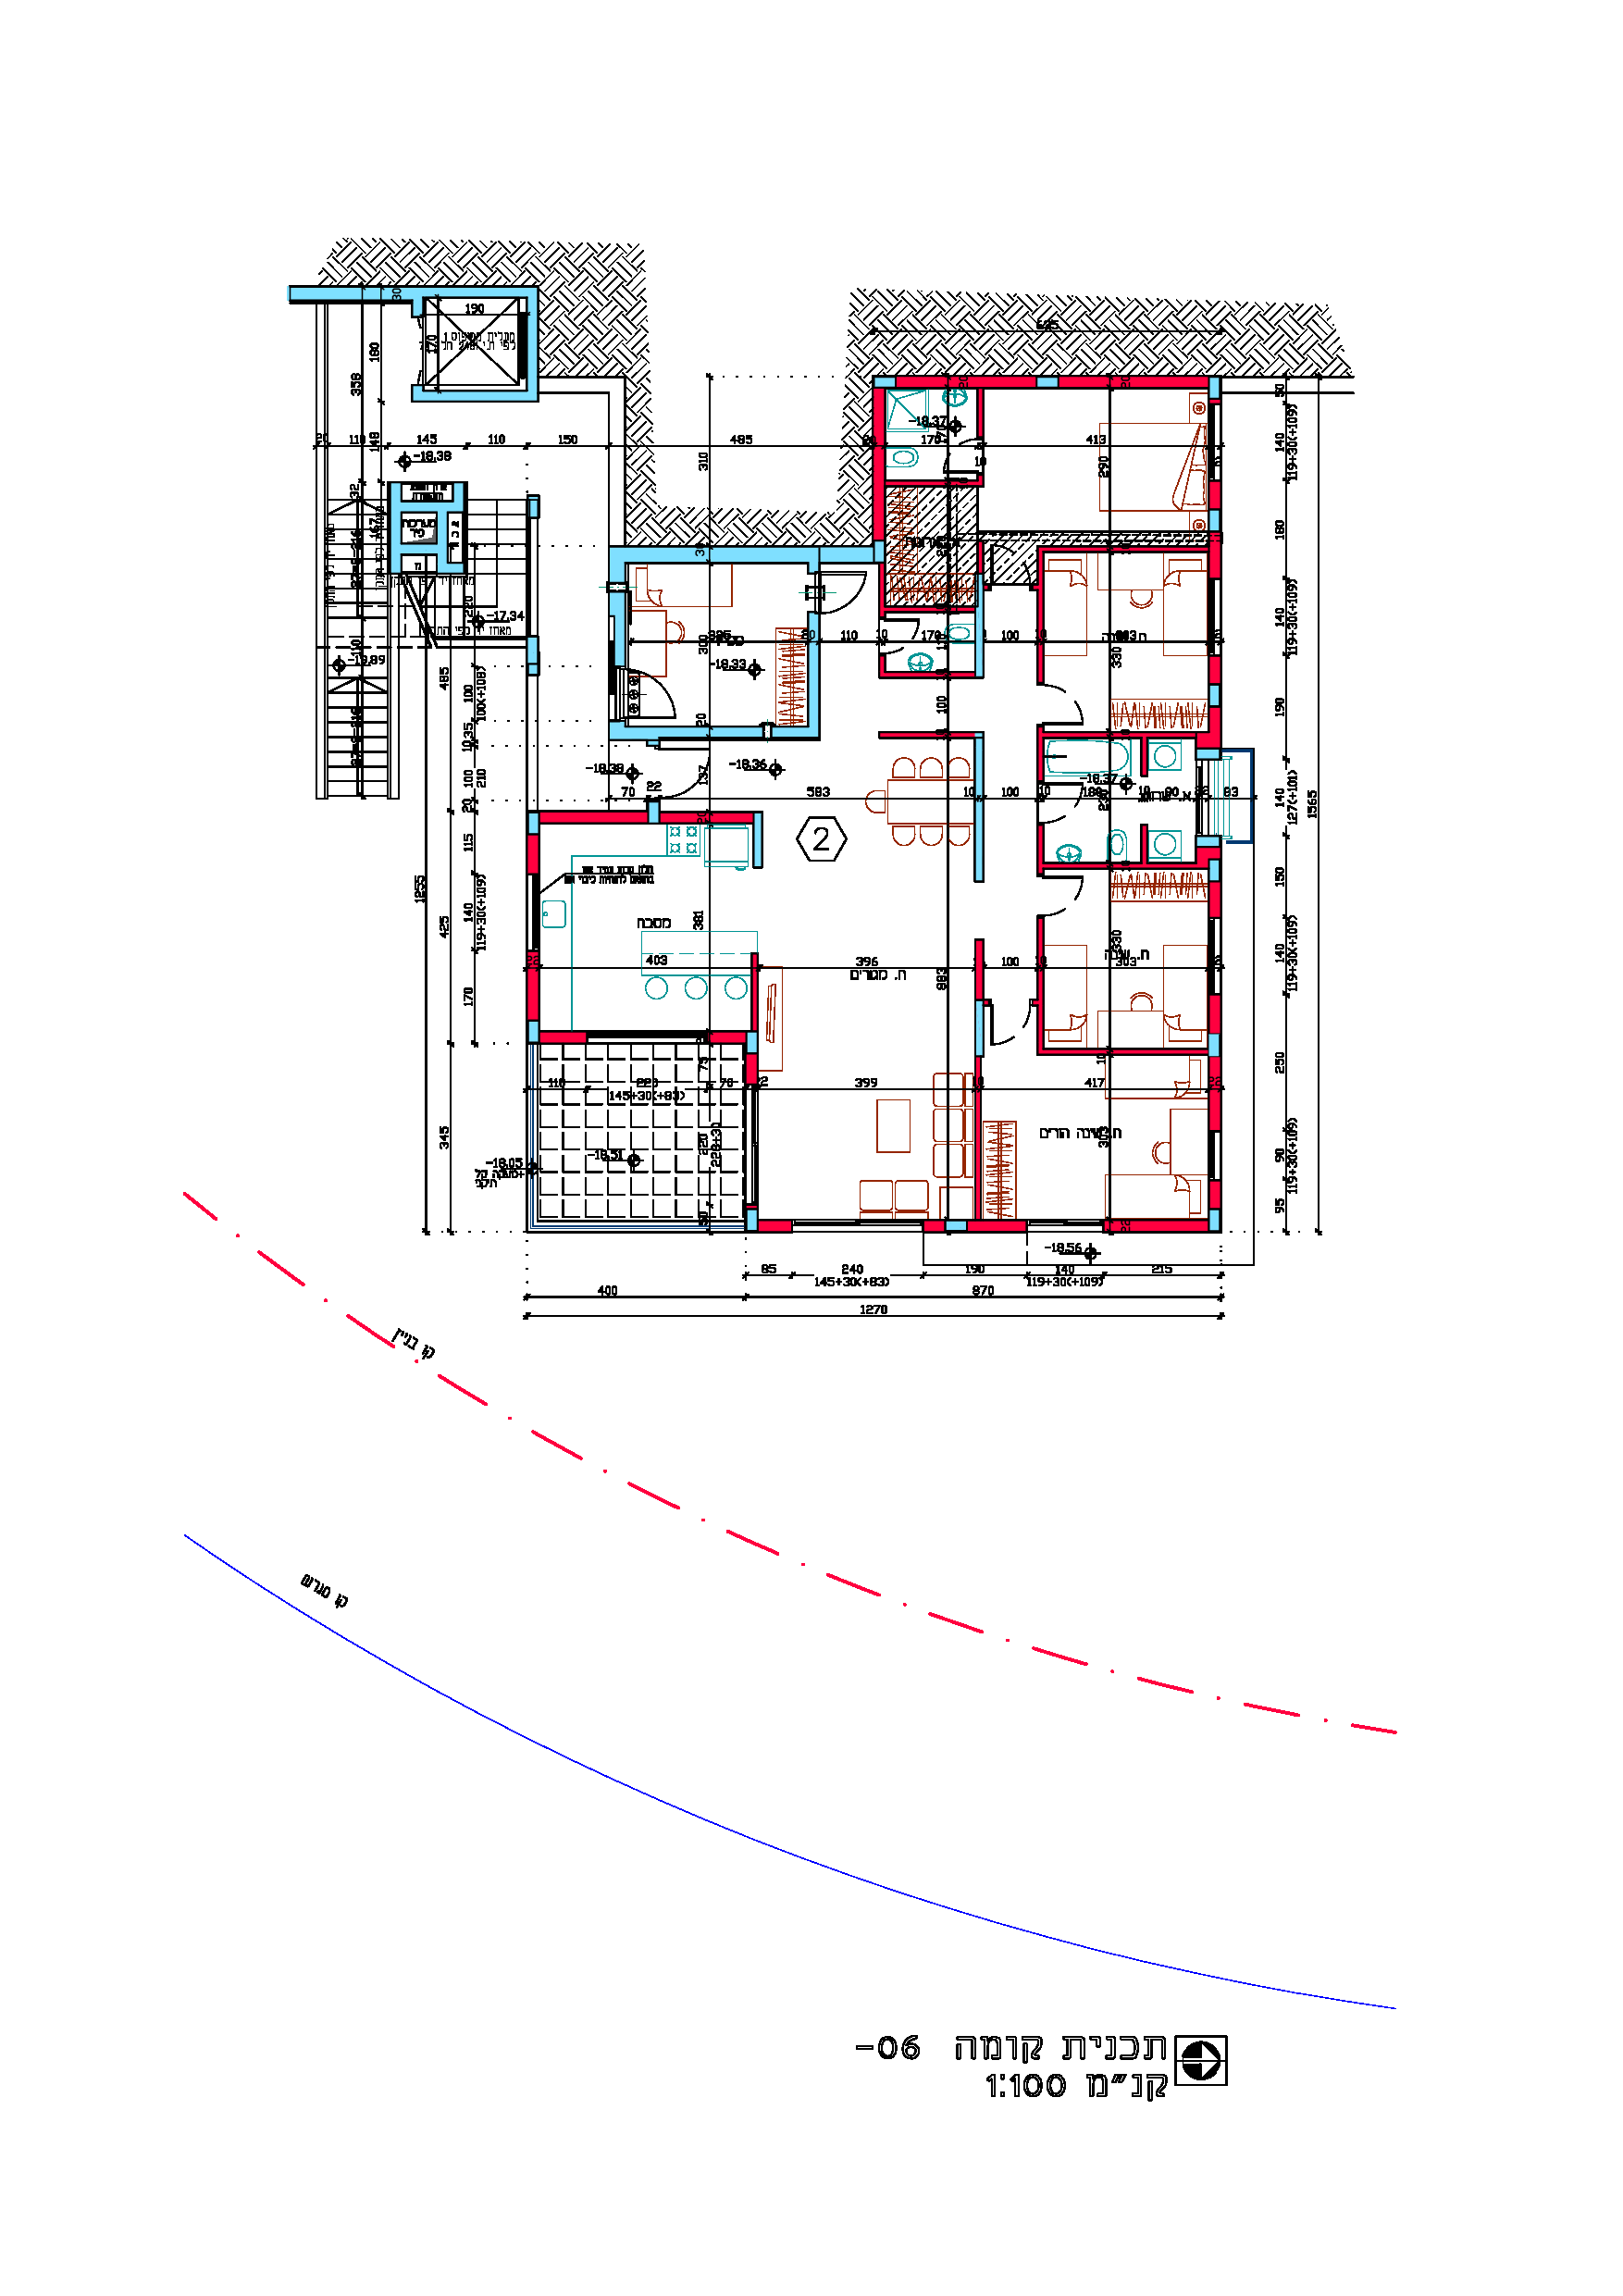door: (826, 567, 871, 620), (1045, 871, 1093, 919), (1047, 678, 1087, 733), (989, 1003, 1031, 1049)
